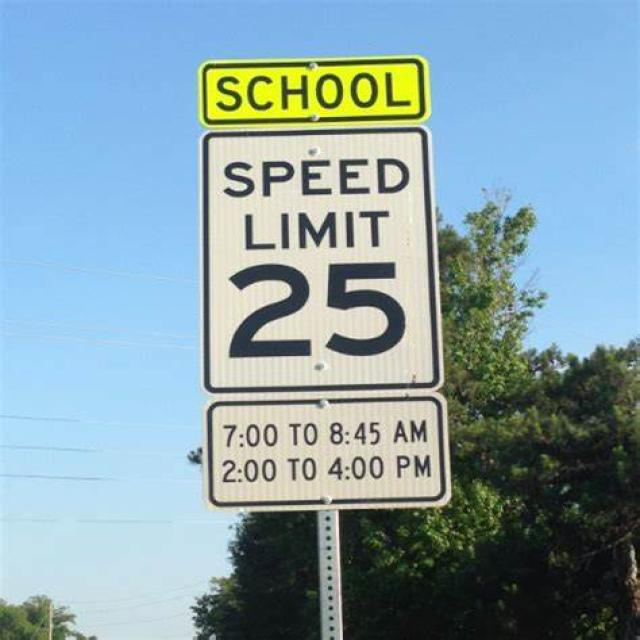speedLimit25: (197, 128, 444, 397)
